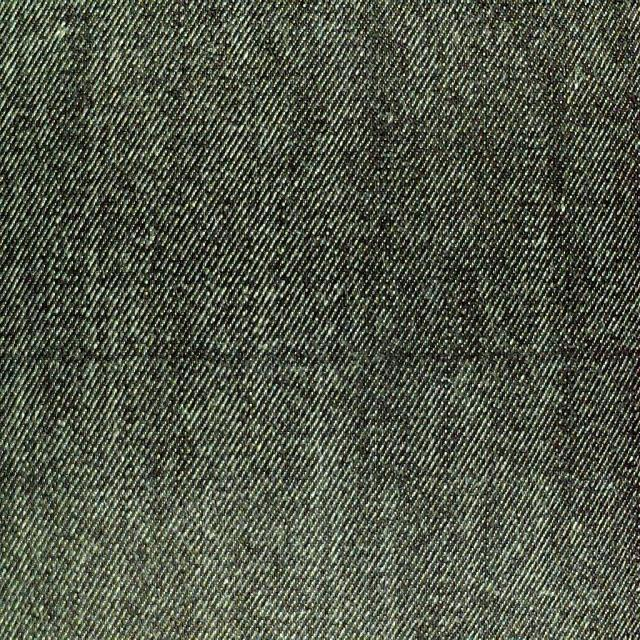Line: (0, 342, 638, 367)
